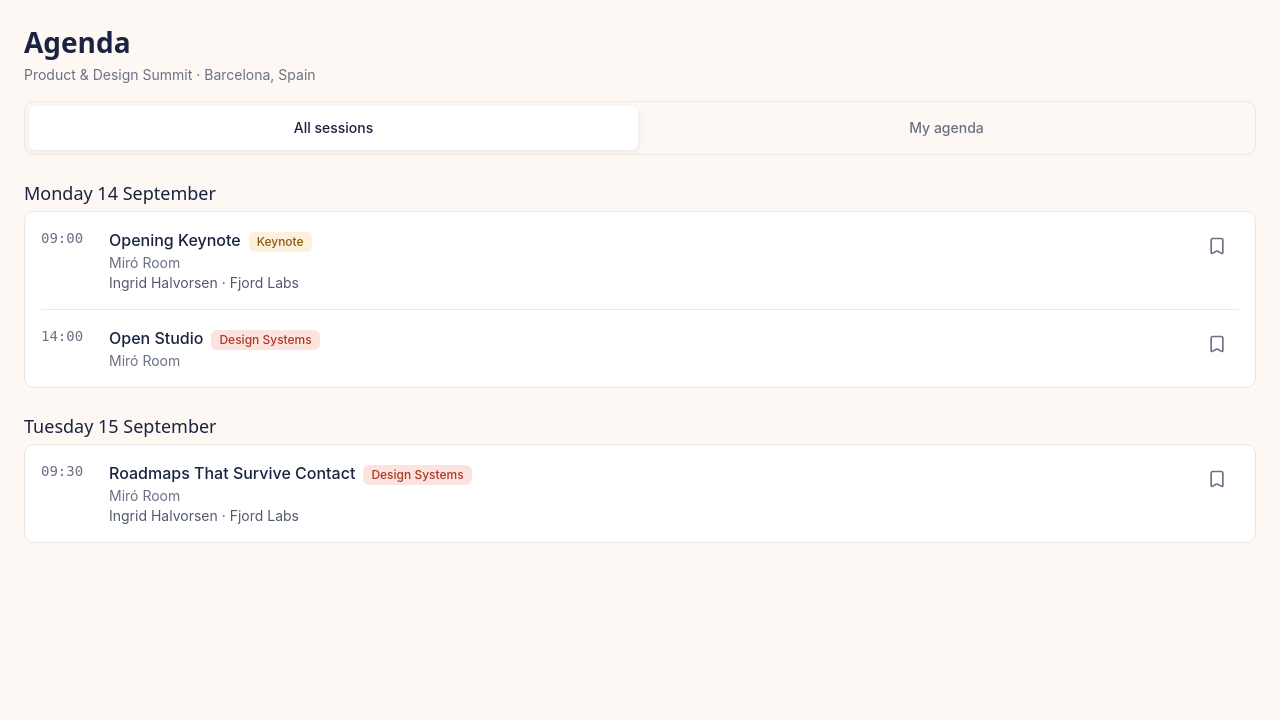
Test: the save control › distinguishes a server fault from being offline (FR-218)
expect the link "Opening Keynote" is shown: met, box left=109, top=230, right=241, bottom=250
Step 1. Click the button named "save Opening Keynote" → point(1217, 246), box left=1195, top=224, right=1239, bottom=268
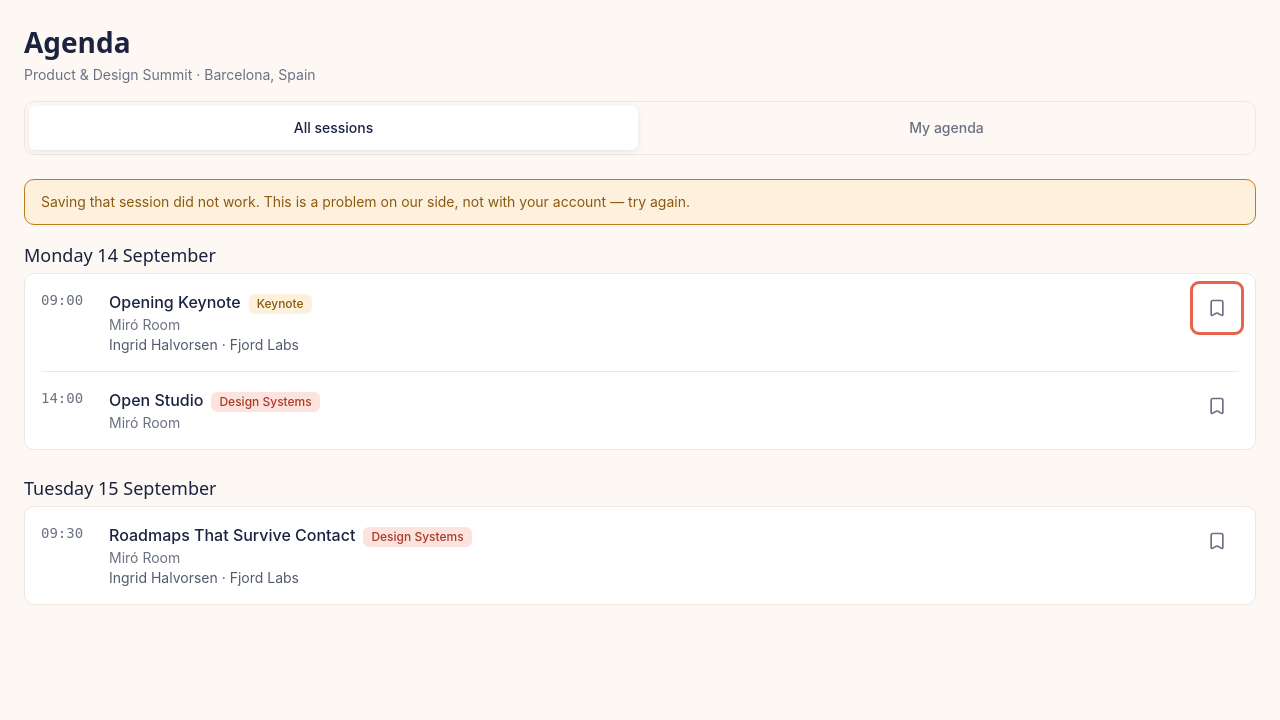
expect the message does not show "there is not one right now": met, box left=24, top=179, right=1256, bottom=225
expect the message shows "our side": met, box left=41, top=193, right=690, bottom=210
